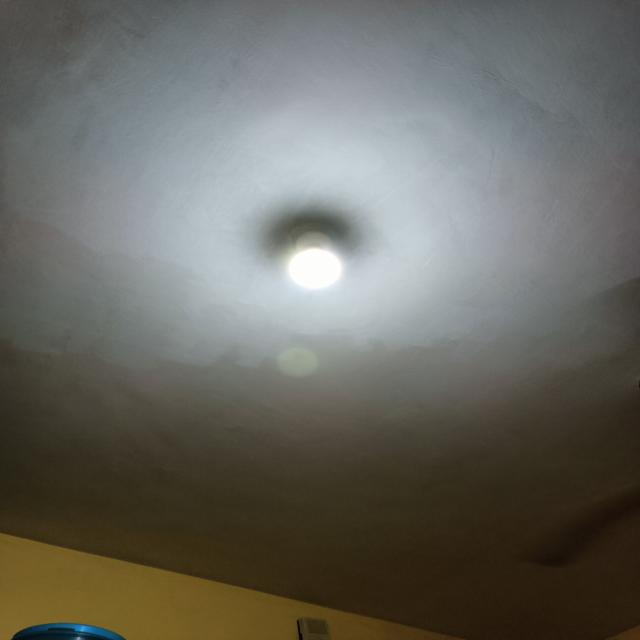bulb_on: (286, 220, 347, 294)
